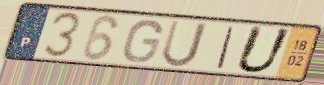3: (41, 10, 83, 60)
6: (80, 14, 123, 62)
G: (120, 19, 164, 65)
I: (214, 25, 237, 71)
U: (233, 24, 295, 76), (159, 18, 209, 69)
